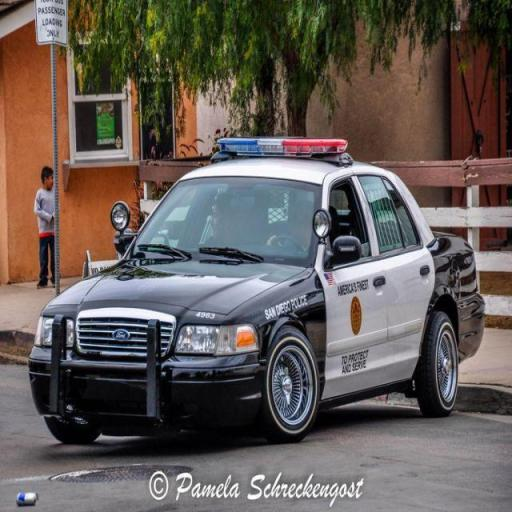Ambulance: (30, 115, 490, 447)
